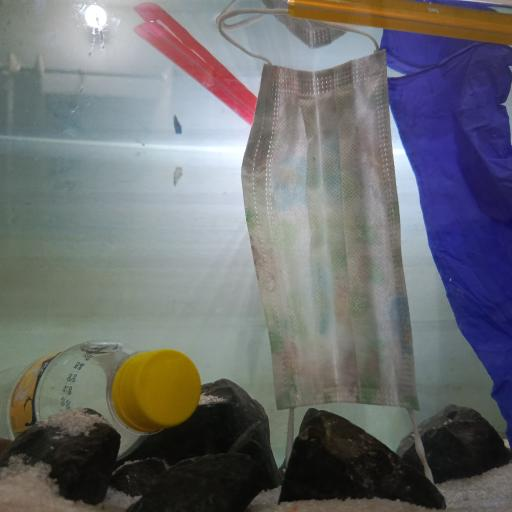bottle_cap: (123, 347, 200, 431)
glove: (389, 46, 512, 472)
mask: (218, 7, 422, 434)
plastic_bottle: (0, 338, 202, 460)
plastic_straw: (135, 20, 259, 122), (287, 0, 512, 43)
